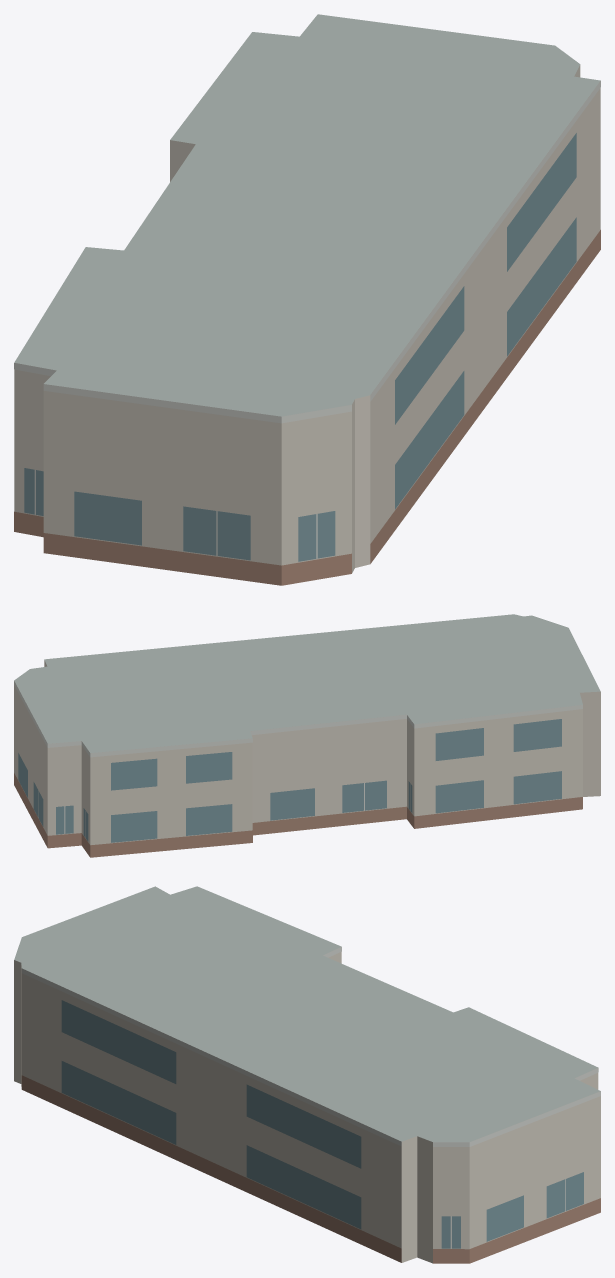
The model's file is survey-upis-32836496.glb.
3 views of the same model, one above another, from view 1: azimuth 30°, elevation 25°; view 2: azimuth 150°, elevation 25°; view 3: azimuth 270°, elevation 25° (orthographic). The views are drawn at different scales.
Parts seen in each view (by area): view 1: survey-upis-32836496.tmp; view 2: survey-upis-32836496.tmp; view 3: survey-upis-32836496.tmp.
Boxes of the visible parts, x1,y1,x2,y2 form: survey-upis-32836496.tmp: [14, 14, 600, 585]; survey-upis-32836496.tmp: [14, 614, 600, 857]; survey-upis-32836496.tmp: [14, 886, 600, 1263].
Bounding box in the file's own units: 27.6 × 6.1 × 26.74.
